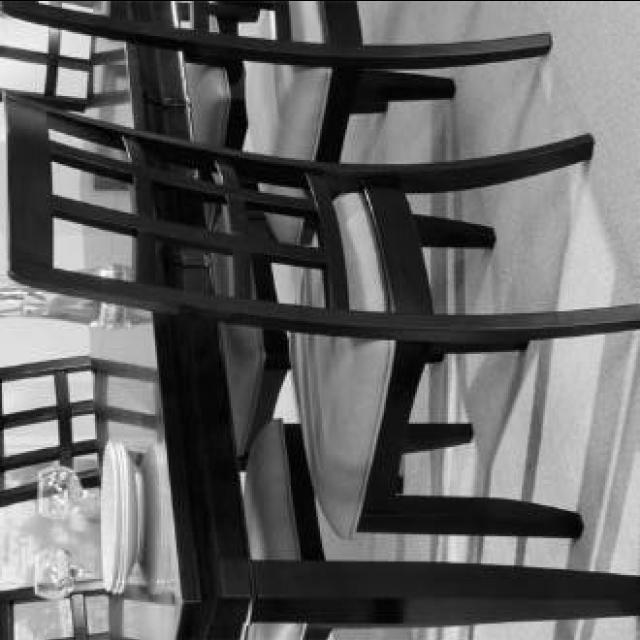chair: (6, 92, 638, 538), (0, 1, 548, 244), (0, 196, 355, 504), (0, 417, 476, 639)
